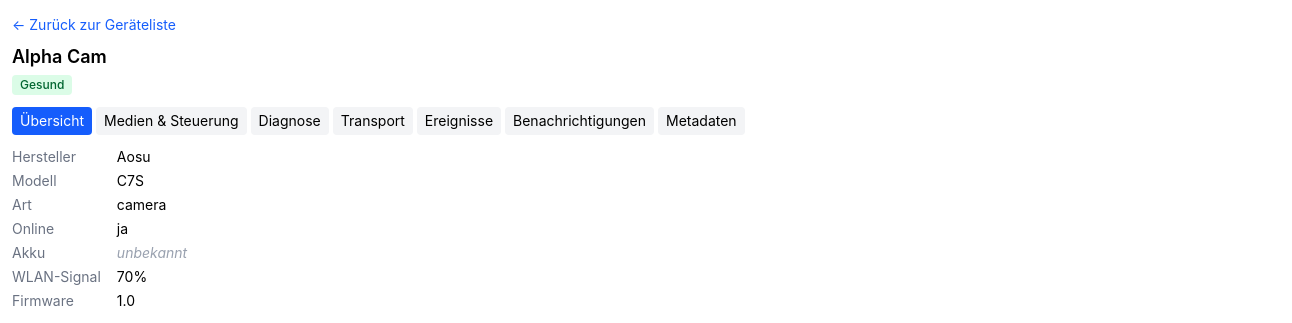
Scenario: DeviceDetail › only shows events for this specific device on the events tab
The width and height of the screenshot is (1292, 323).
Click the tab "Ereignisse": {"x": 459, "y": 121} [417,107,501,135]
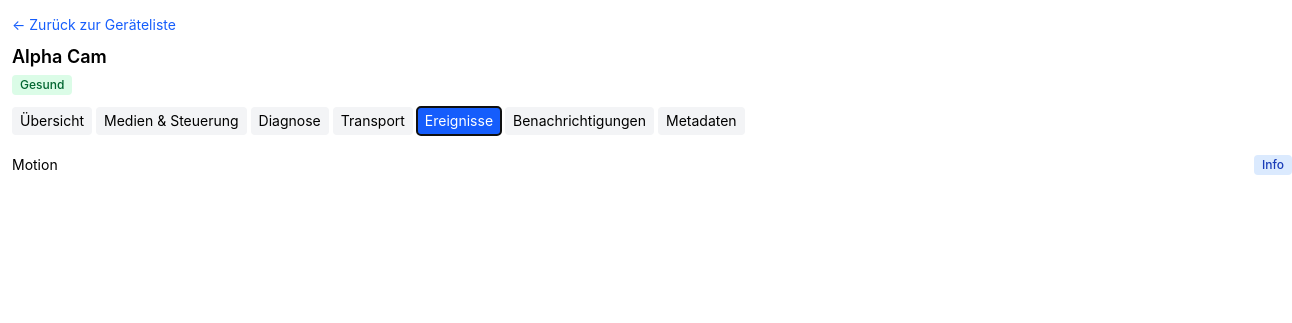
Now the text "Motion" is shown once, box [12,155,58,175]
